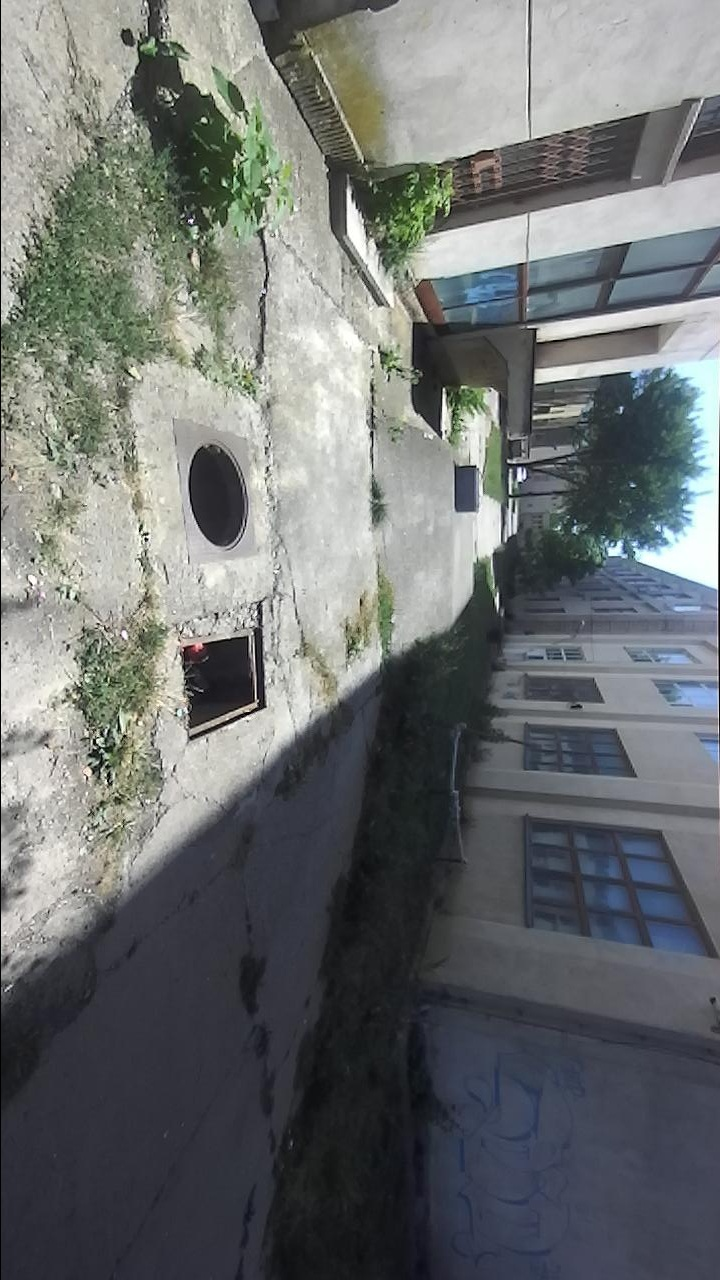drain: (170, 619, 270, 748), (190, 436, 251, 557)
